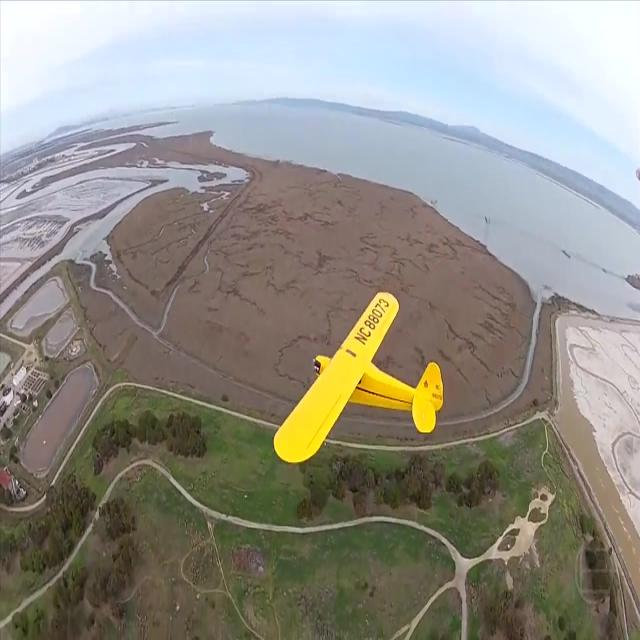iha: (273, 291, 444, 463)
